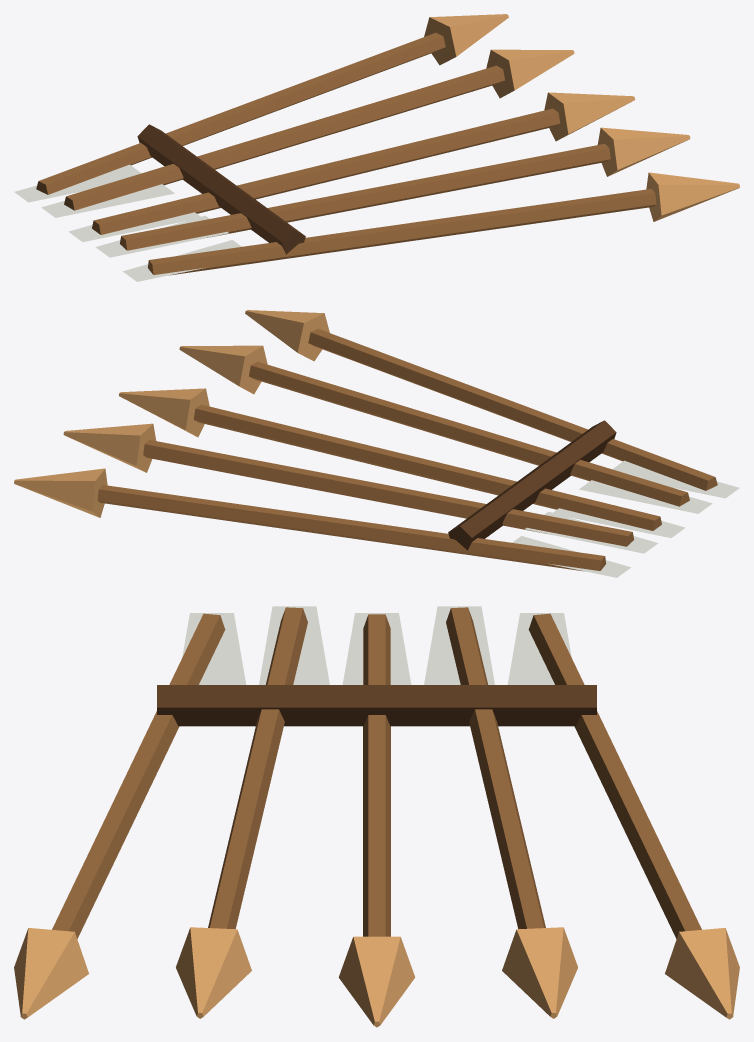
The model's file is drop_bronze_arrows.glb.
The picture shows the model from 3 angles, top to bottom: view 1: azimuth 30°, elevation 25°; view 2: azimuth 150°, elevation 25°; view 3: azimuth 270°, elevation 25°; orthographic projection. The views are drawn at different scales.
Parts seen in each view (by area): view 1: drop_bronze_arrows; view 2: drop_bronze_arrows; view 3: drop_bronze_arrows.
Part boxes in pixels (left/top/right/bottom): drop_bronze_arrows: left=14, top=14, right=739, bottom=281; drop_bronze_arrows: left=14, top=310, right=739, bottom=577; drop_bronze_arrows: left=14, top=606, right=739, bottom=1027.
Size of the model in its own units: 0.535 by 0.0438 by 0.3958.
